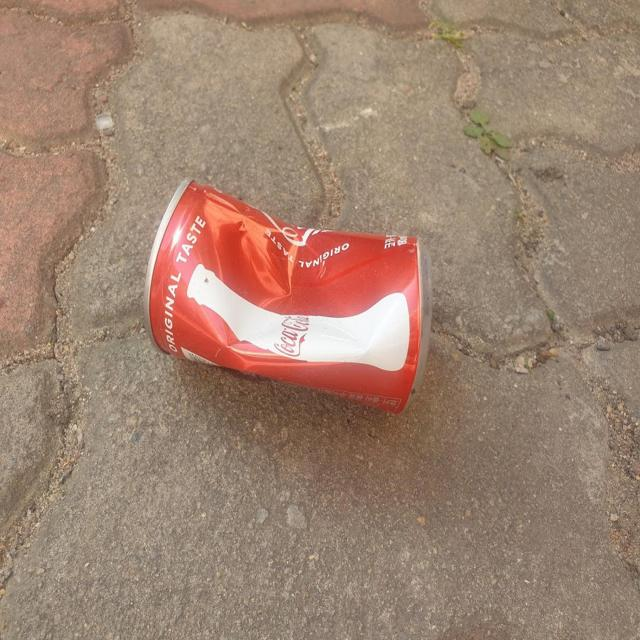can: (145, 179, 432, 414)
